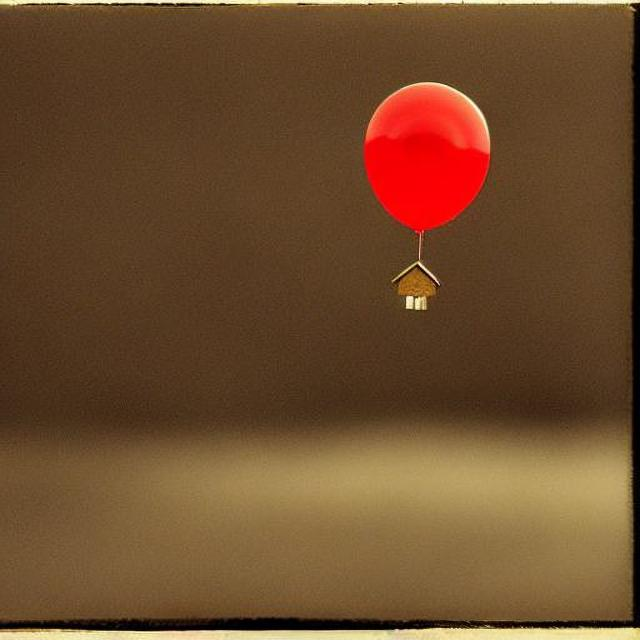balloon: (358, 78, 490, 259)
